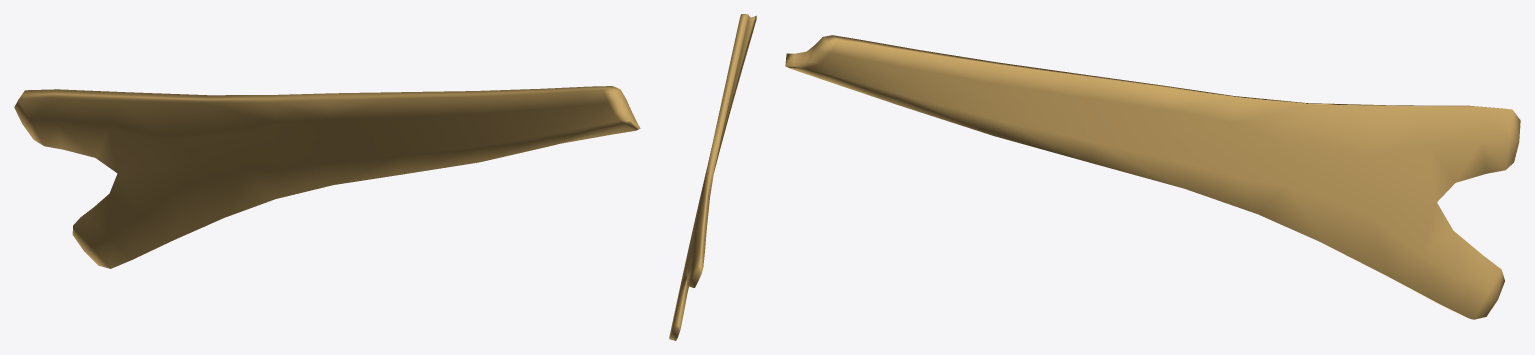
3 renders of one model, left to right at view 1: azimuth 30°, elevation 25°; view 2: azimuth 150°, elevation 25°; view 3: azimuth 270°, elevation 25°, orthographic. The views are drawn at different scales.
Visible parts, largest first — view 1: 右侧蝶下颌韧带; view 2: 右侧蝶下颌韧带; view 3: 右侧蝶下颌韧带.
Boxes of the visible parts, <box> form: 右侧蝶下颌韧带: <box>14,86,640,268</box>; 右侧蝶下颌韧带: <box>669,14,756,340</box>; 右侧蝶下颌韧带: <box>785,35,1520,319</box>.
Bounding box in the file's own units: 0.0158 × 0.021 × 0.038.
